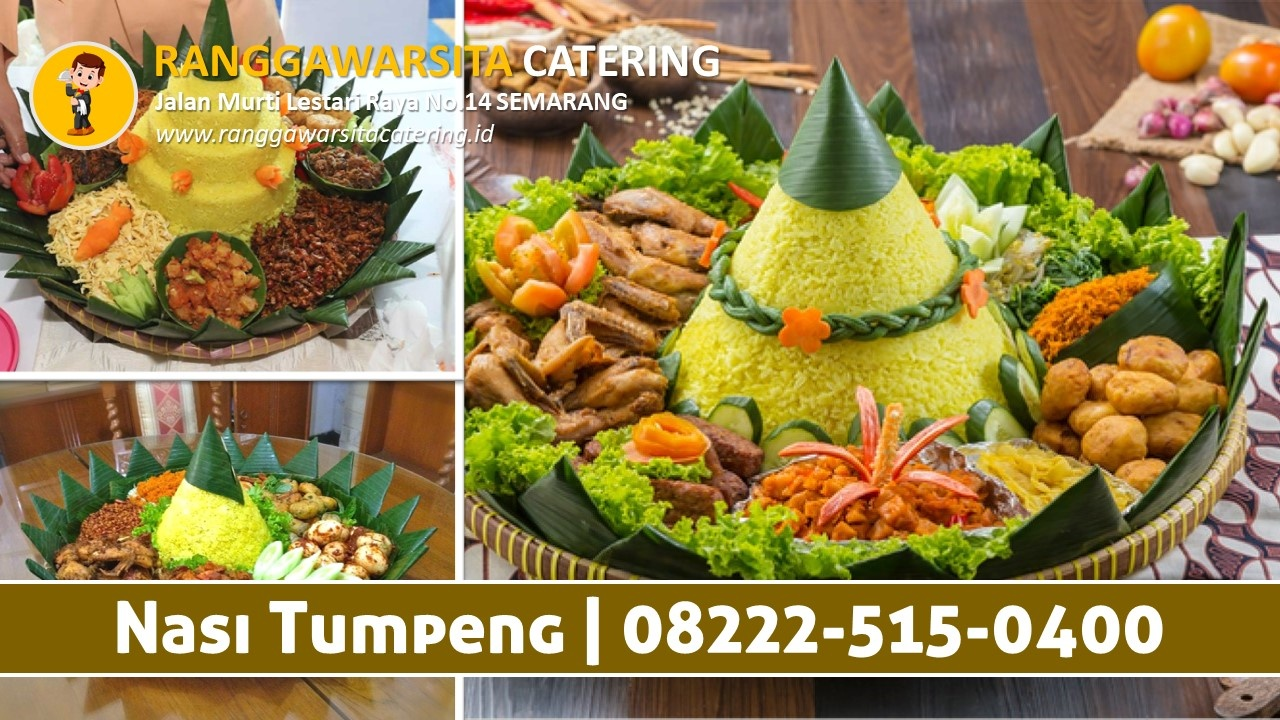tumpeng: (673, 39, 1014, 308)
